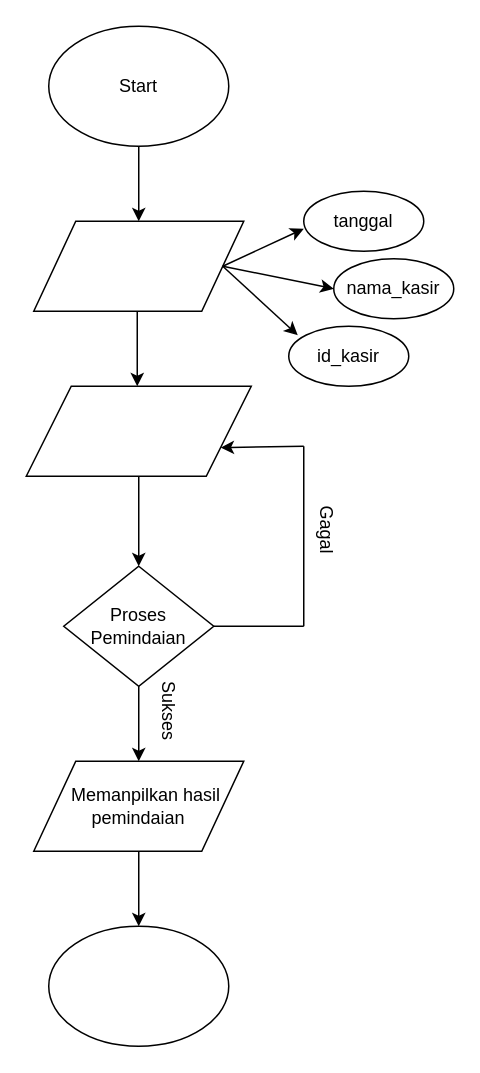
Image size: 480x1073. Some labels were removed from this diagram. The centre of each missing label's shape, as x and y in pixels:
"Input barang dengan QR code" belongs at (x=138, y=430).
"Masuk pada aplikasi kasir" belongs at (x=138, y=265).
"Selesai" belongs at (x=138, y=985).
